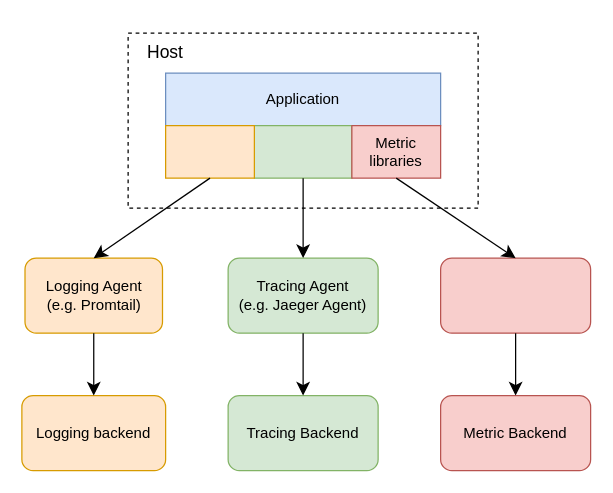
Some shapes in this 613 by 493 pixel diagram are drawn without their labels. Each missing label, with the box of its shape:
Logging libraries: (164, 124, 254, 178)
Metric Agent (e.g. OpenCensus Agent): (439, 257, 591, 333)
Tracing libraries: (253, 124, 352, 178)
